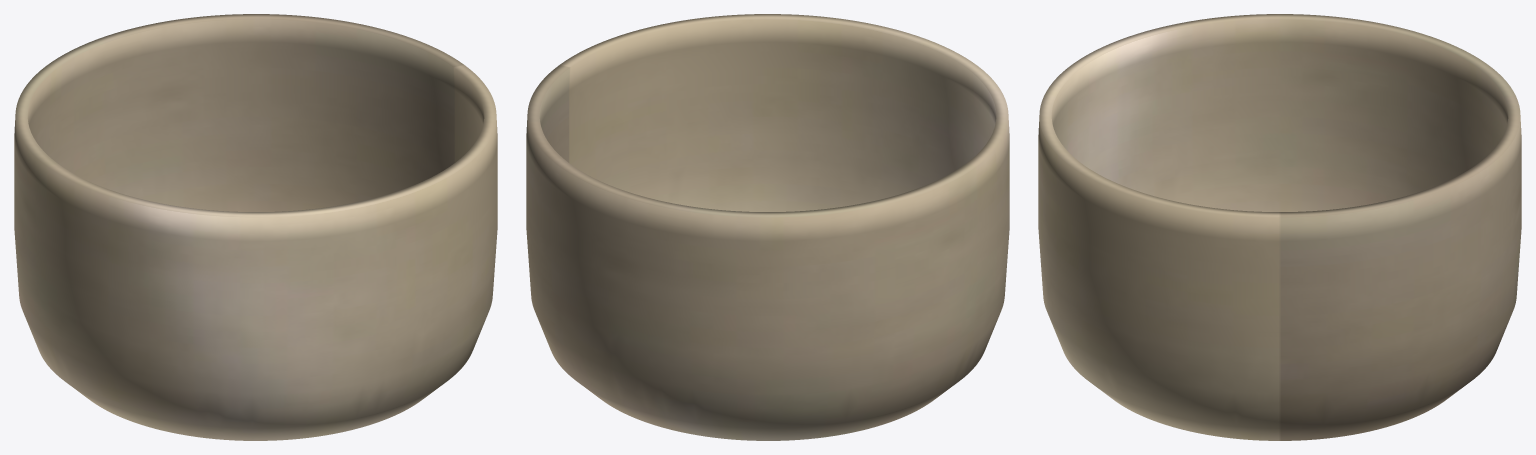
The picture shows the model from 3 angles, left to right: view 1: azimuth 30°, elevation 25°; view 2: azimuth 150°, elevation 25°; view 3: azimuth 270°, elevation 25°; orthographic projection.
Visible parts, largest first — view 1: body; view 2: body; view 3: body.
Part boxes in pixels (bbox=[...]): body: bbox=[14, 14, 497, 440]; body: bbox=[526, 14, 1009, 440]; body: bbox=[1038, 14, 1521, 440].
Size of the model in its own units: 0.131 by 0.0782 by 0.131.
Materials: 1 (1 with a texture image).
